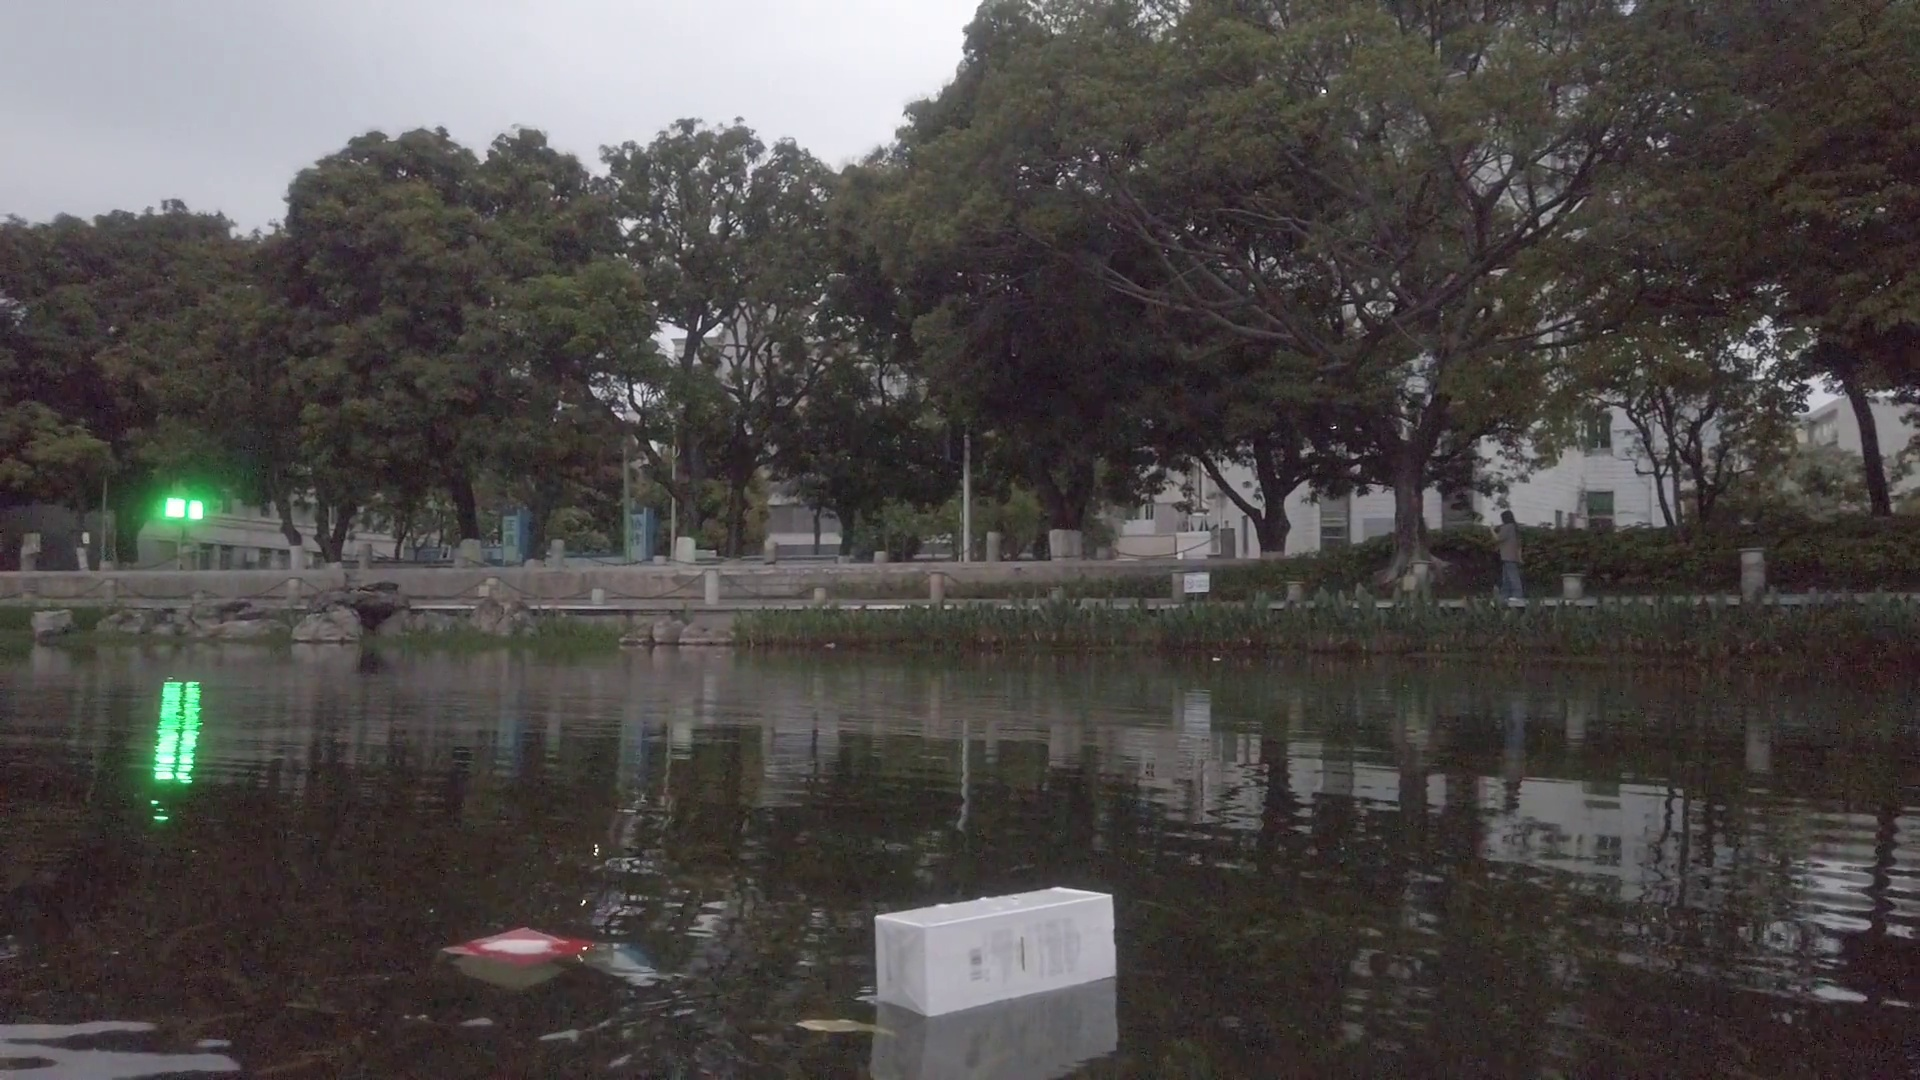carton: (872, 886, 1120, 1004)
paper: (464, 922, 603, 988)
